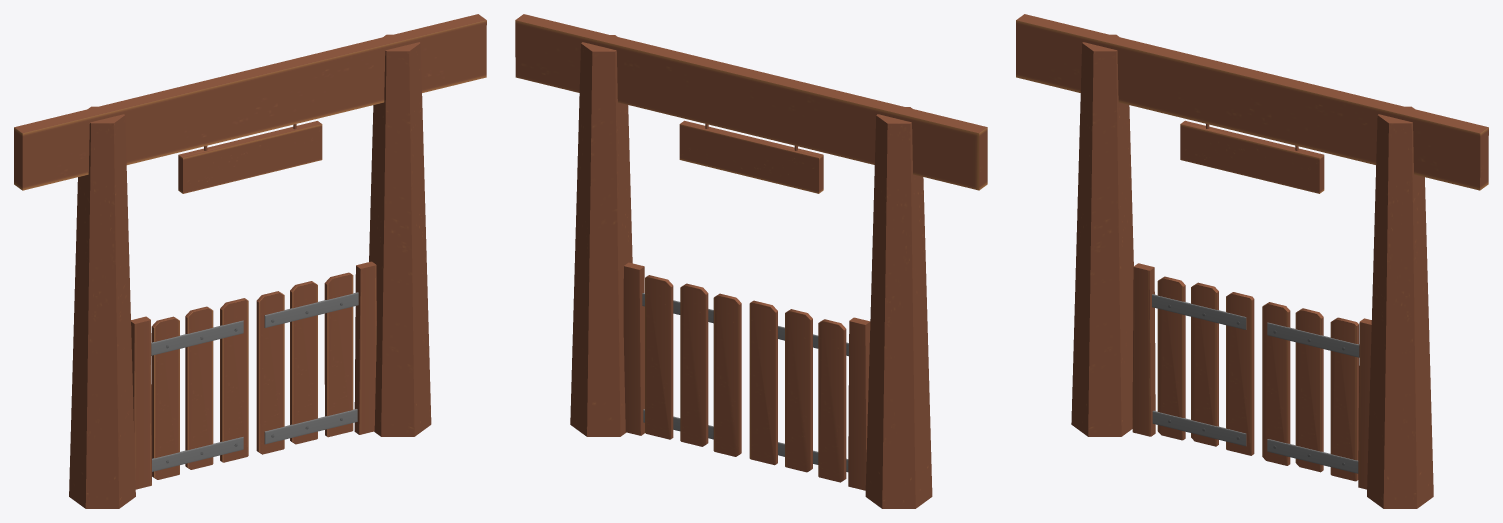
The model's file is pintu.fbx.
3 views of the same model, side by side, from view 1: azimuth 30°, elevation 25°; view 2: azimuth 150°, elevation 25°; view 3: azimuth 330°, elevation 25° (orthographic).
Parts seen in each view (by area): view 1: pintu; view 2: pintu; view 3: pintu.
Part boxes in pixels (box(x1,y1,x2,y2)): pintu: box(14, 14, 486, 508); pintu: box(515, 14, 987, 508); pintu: box(1016, 14, 1488, 508).
Size of the model in its own units: 1173 by 934 by 146.
